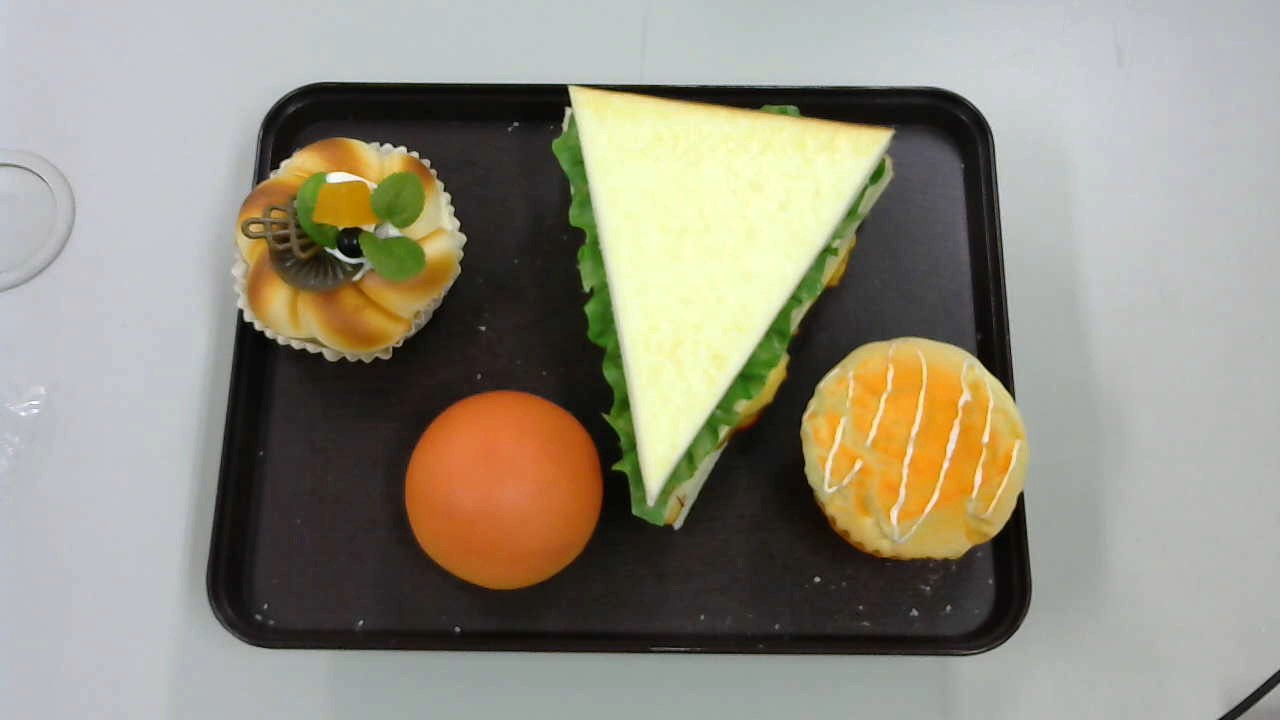bun: (402, 387, 605, 593)
cupcake: (801, 337, 1029, 561)
fruit tart: (232, 137, 468, 362)
sandwich: (552, 86, 898, 533)
